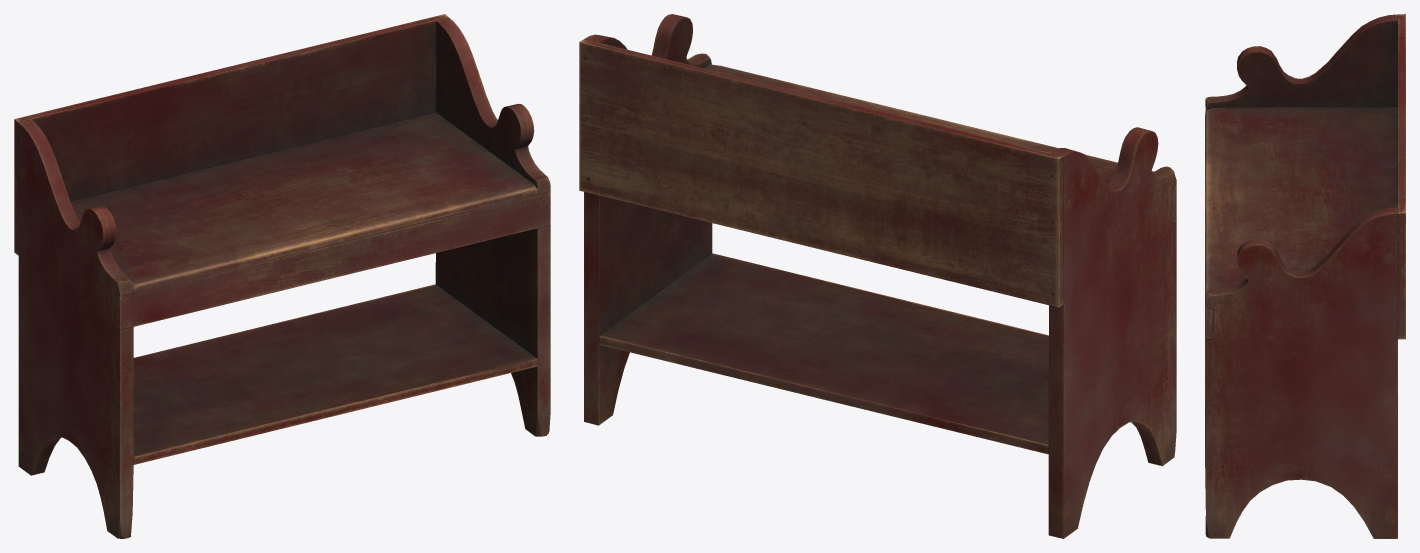
The model's file is tuinbank_hout.gltf.
The picture shows the model from 3 angles, left to right: view 1: azimuth 30°, elevation 25°; view 2: azimuth 150°, elevation 25°; view 3: azimuth 270°, elevation 25°; orthographic projection. The views are drawn at different scales.
Visible parts, largest first — view 1: painted_wooden_bench; view 2: painted_wooden_bench; view 3: painted_wooden_bench.
Boxes of the visible parts, x1=… form: painted_wooden_bench: x1=14, y1=14, x2=550, y2=538; painted_wooden_bench: x1=579, y1=14, x2=1176, y2=538; painted_wooden_bench: x1=1205, y1=14, x2=1405, y2=538.
Size of the model in its own units: 1.16 by 0.8893 by 0.4965.
Materials: 1 (1 with a texture image).
